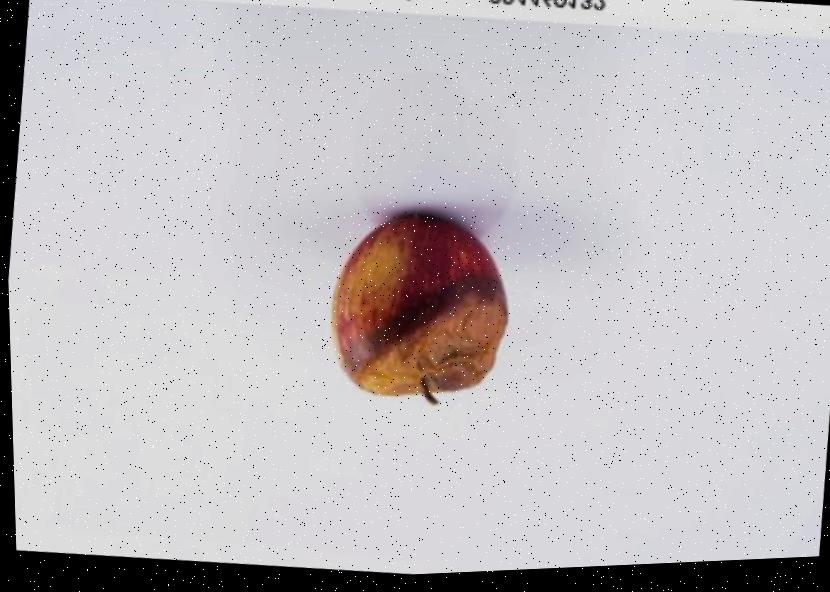ROT: (292, 183, 544, 437)
